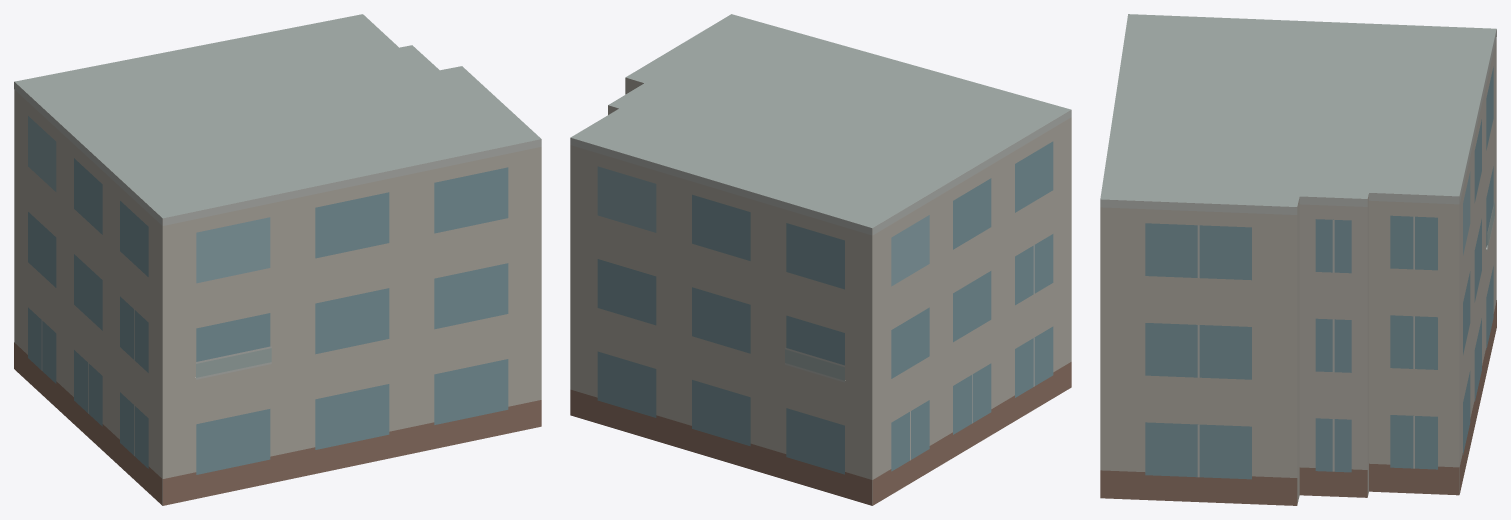
Rendered from survey-upis-32801313.glb.
3 views of the same model, side by side, from view 1: azimuth 30°, elevation 25°; view 2: azimuth 150°, elevation 25°; view 3: azimuth 270°, elevation 25° (orthographic). The views are drawn at different scales.
Visible parts, largest first — view 1: survey-upis-32801313.tmp; view 2: survey-upis-32801313.tmp; view 3: survey-upis-32801313.tmp.
Part boxes in pixels (x1=…): survey-upis-32801313.tmp: x1=14, y1=14, x2=541, y2=505; survey-upis-32801313.tmp: x1=570, y1=14, x2=1071, y2=505; survey-upis-32801313.tmp: x1=1100, y1=14, x2=1496, y2=505.
Size of the model in its own units: 12.69 by 9.15 by 11.02.
